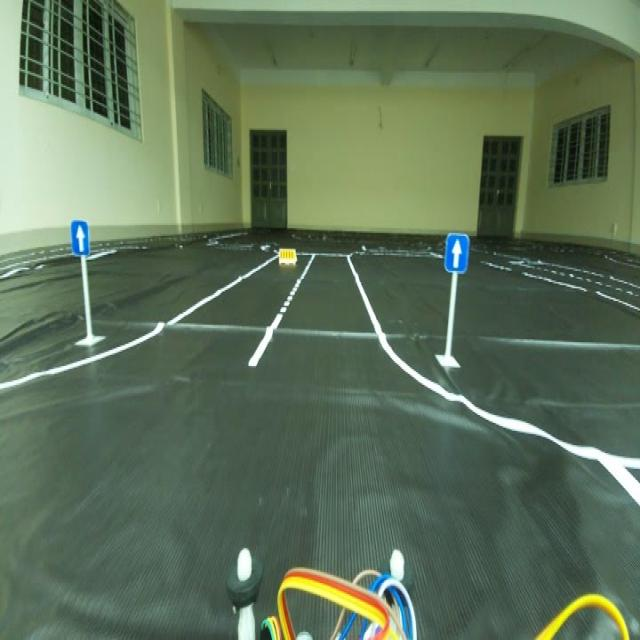onewayroad: (442, 234, 469, 278), (70, 220, 89, 250)
roadblock: (276, 247, 300, 266)
